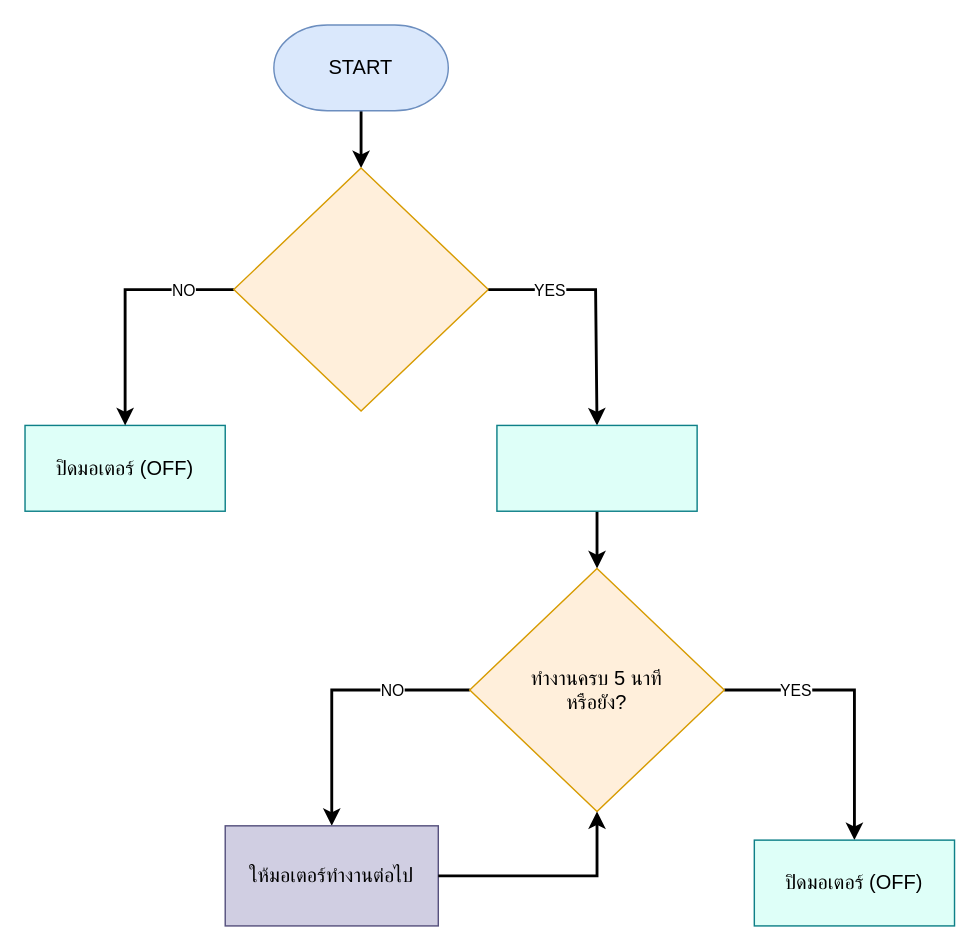
The diagram is 980 pixels wide and 951 high, and some of its shapes have lost their labels. The shapes that lost their labels are listed below. From the top down, each one's centre as x and y in pixels, then its label:
point (360, 289): เช็คเวลาปัจจุบัน 07:00 <= เวลา <= 18:00 หรือไม่?
point (596, 467): เปิดมอเตอร์ (ON)
